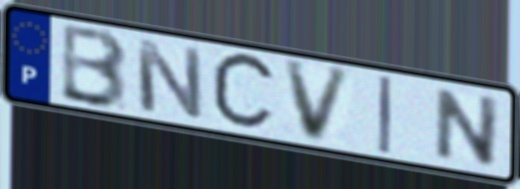B: (57, 22, 131, 111)
C: (209, 50, 281, 135)
I: (376, 73, 395, 157)
N: (131, 35, 206, 123), (431, 86, 504, 170)
V: (281, 58, 356, 144)
